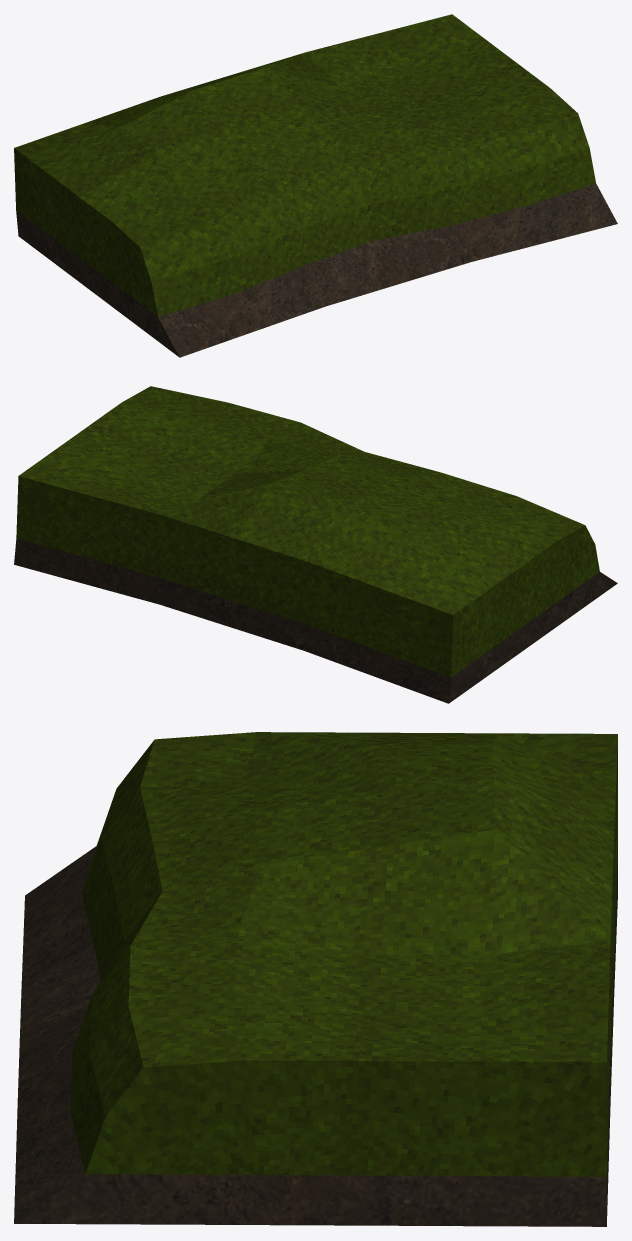
File: ground1.fbx
The picture shows the model from 3 angles, top to bottom: view 1: azimuth 30°, elevation 25°; view 2: azimuth 150°, elevation 25°; view 3: azimuth 270°, elevation 25°; orthographic projection. The views are drawn at different scales.
Parts seen in each view (by area): view 1: HighGround1; view 2: HighGround1; view 3: HighGround1.
Part boxes in pixels (x1,y1,x2,y2): HighGround1: [14, 14, 617, 357]; HighGround1: [14, 386, 617, 703]; HighGround1: [14, 732, 617, 1226].
Size of the model in its own units: 1821 by 558 by 1197.
